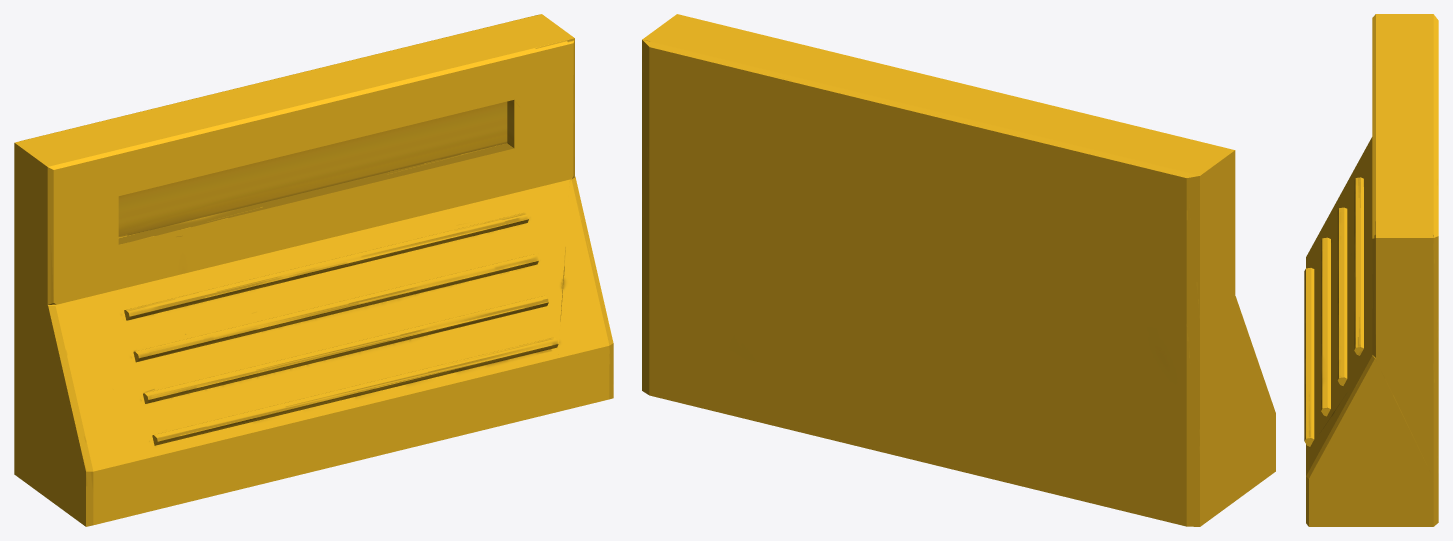
Rendered from test_pylon.dae.
3 renders of one model, left to right at view 1: azimuth 30°, elevation 25°; view 2: azimuth 150°, elevation 25°; view 3: azimuth 270°, elevation 25°, orthographic. The views are drawn at different scales.
Visible parts, largest first — view 1: Pylon; view 2: Pylon; view 3: Pylon.
Boxes of the visible parts, left/top/right/bottom form: Pylon: left=14, top=14, right=613, bottom=526; Pylon: left=642, top=14, right=1275, bottom=526; Pylon: left=1304, top=14, right=1438, bottom=526.
Bounding box in the file's own units: 0.5 × 0.1264 × 0.3006.
Materials: 1 (1 with a texture image).
